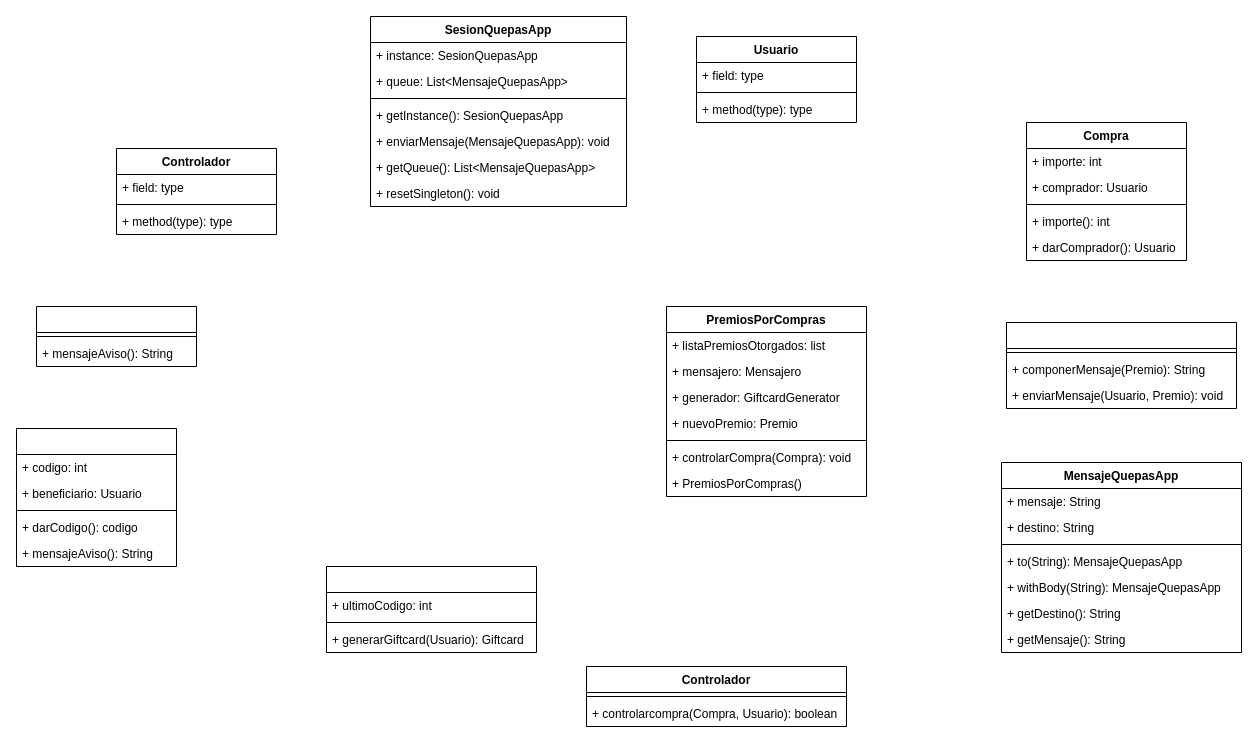
This 1258x743 diagram has some shape labels left out. Here are the shapes that lost their labels. From the top down, the box of each, then its label:
(36, 306, 196, 366): Premio
(1006, 322, 1236, 408): Mensajero
(16, 428, 176, 566): Giftcard
(326, 566, 536, 652): GiftcardGenerator
